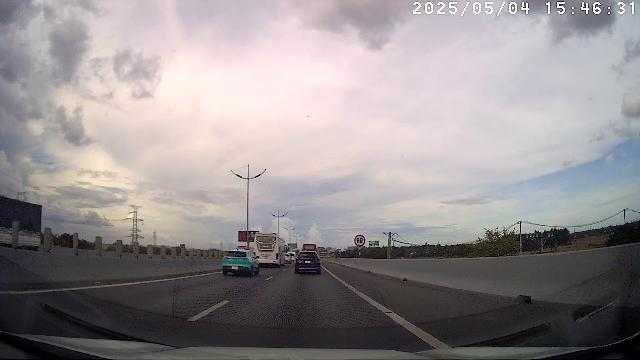127-toc-do-toi-da-80: (354, 234, 366, 248)
